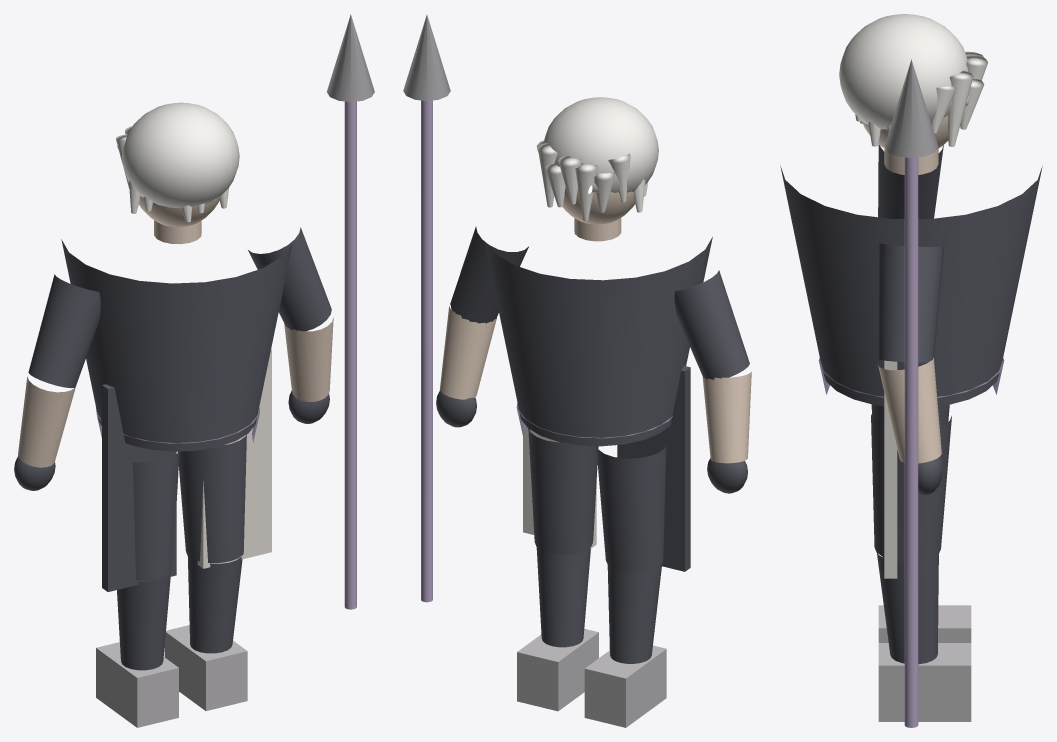
Rendered from garam-procedural-v1.glb.
3 renders of one model, left to right at view 1: azimuth 30°, elevation 25°; view 2: azimuth 150°, elevation 25°; view 3: azimuth 270°, elevation 25°, orthographic. The views are drawn at different scales.
Visible parts, largest first — view 1: Outfit_Torso, Hair_Cap, Body_Thigh_R, Outfit_CoatTail_L, Weapon_SpearShaft, Body_UpperArm_L, Body_Thigh_L, Outfit_Boot_L, Outfit_CoatTail_R, Outfit_Boot_R, Body_Shin_R, Body_Shin_L (+8 smaller); view 2: Outfit_Torso, Body_Thigh_L, Body_Thigh_R, Hair_Cap, Weapon_SpearShaft, Outfit_CoatTail_L, Body_UpperArm_L, Outfit_Boot_L, Outfit_Boot_R, Body_Shin_R, Body_Shin_L, Body_Forearm_L (+12 smaller); view 3: Outfit_Torso, Hair_Cap, Weapon_SpearShaft, Outfit_Boot_R, Body_UpperArm_R, Body_Thigh_R, Body_Shin_R, Body_Forearm_R, Weapon_SpearHead, Body_UpperArm_L, Outfit_CoatTail_R, Outfit_Boot_L (+8 smaller).
Part boxes in pixels (x1,y1,x2,y2): Outfit_Torso: (61,239,292,451); Hair_Cap: (122,102,239,208); Body_Thigh_R: (177,434,246,563); Outfit_CoatTail_L: (102,384,176,591); Weapon_SpearShaft: (344,101,356,609); Body_UpperArm_L: (28,274,100,388); Body_Thigh_L: (133,451,179,580); Outfit_Boot_L: (96,642,178,727); Outfit_CoatTail_R: (197,349,271,568); Outfit_Boot_R: (164,625,247,710); Body_Shin_R: (187,556,242,653); Body_Shin_L: (117,574,170,670); Outfit_Torso: (484,237,712,446); Body_Thigh_L: (596,446,666,572); Body_Thigh_R: (528,428,598,554); Hair_Cap: (544,97,658,192); Weapon_SpearShaft: (421,100,432,602); Outfit_CoatTail_L: (617,365,690,571); Body_UpperArm_L: (674,270,749,379); Outfit_Boot_L: (584,645,666,727); Outfit_Boot_R: (517,628,598,711); Body_Shin_R: (536,547,590,647); Body_Shin_L: (607,564,661,663); Body_Forearm_L: (702,371,751,463); Outfit_Torso: (780,166,1042,406); Hair_Cap: (839,14,968,129); Weapon_SpearShaft: (904,157,918,727); Outfit_Boot_R: (878,643,971,721); Body_UpperArm_R: (878,243,944,362); Body_Thigh_R: (871,414,951,561); Body_Shin_R: (877,553,938,664); Body_Forearm_R: (878,357,941,463); Weapon_SpearHead: (884,59,938,158); Body_UpperArm_L: (878,144,943,218); Outfit_CoatTail_R: (884,360,897,578); Outfit_Boot_L: (878,605,971,642).
Bounding box in the file's own units: 1.21 × 2.14 × 0.7029.
